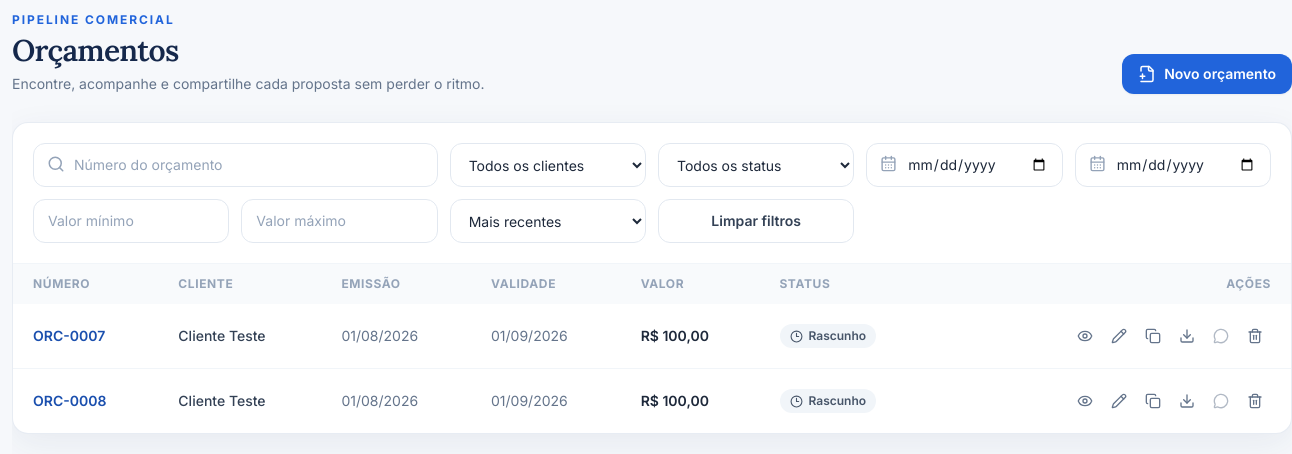
Scenario: QuotesPage › duplicar: enquanto uma linha está sendo duplicada, o botão de outra linha também fica desabilitado (busy global)
Click the button named "Duplicar" in the row of "ORC-0007".
click(1153, 336)  # box [1137,320,1169,352]
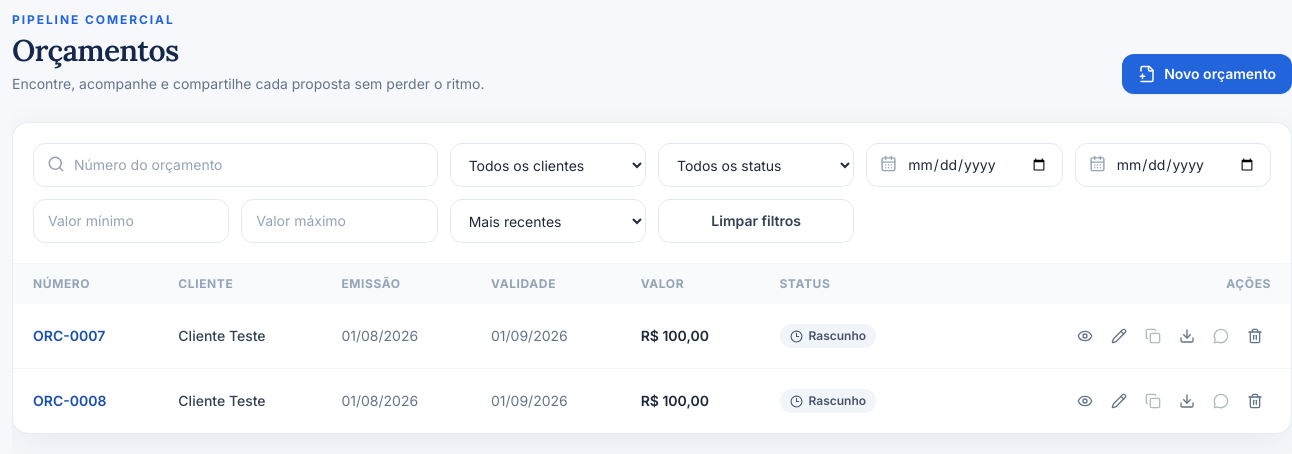
expect the button named "Duplicar" in the row of "ORC-0007" is disabled: met, box [1137,320,1169,352]
expect the button named "Duplicar" in the row of "ORC-0008" is disabled: met, box [1137,385,1169,417]
